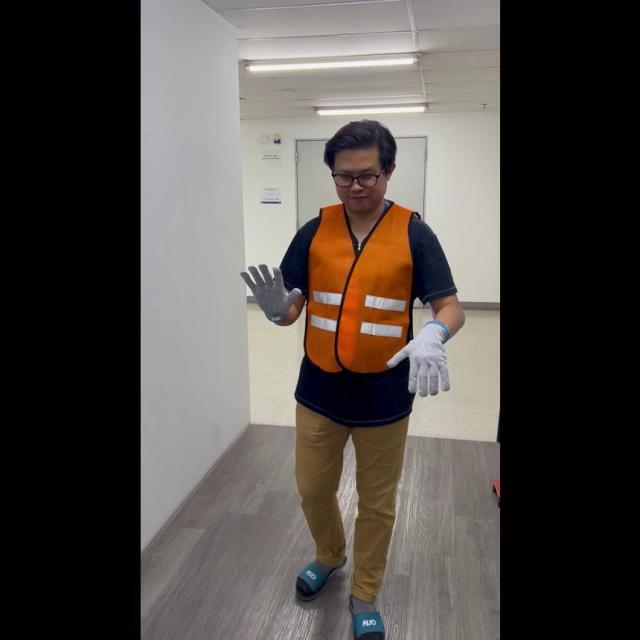gloved_hand: (385, 316, 452, 395), (240, 257, 303, 321)
